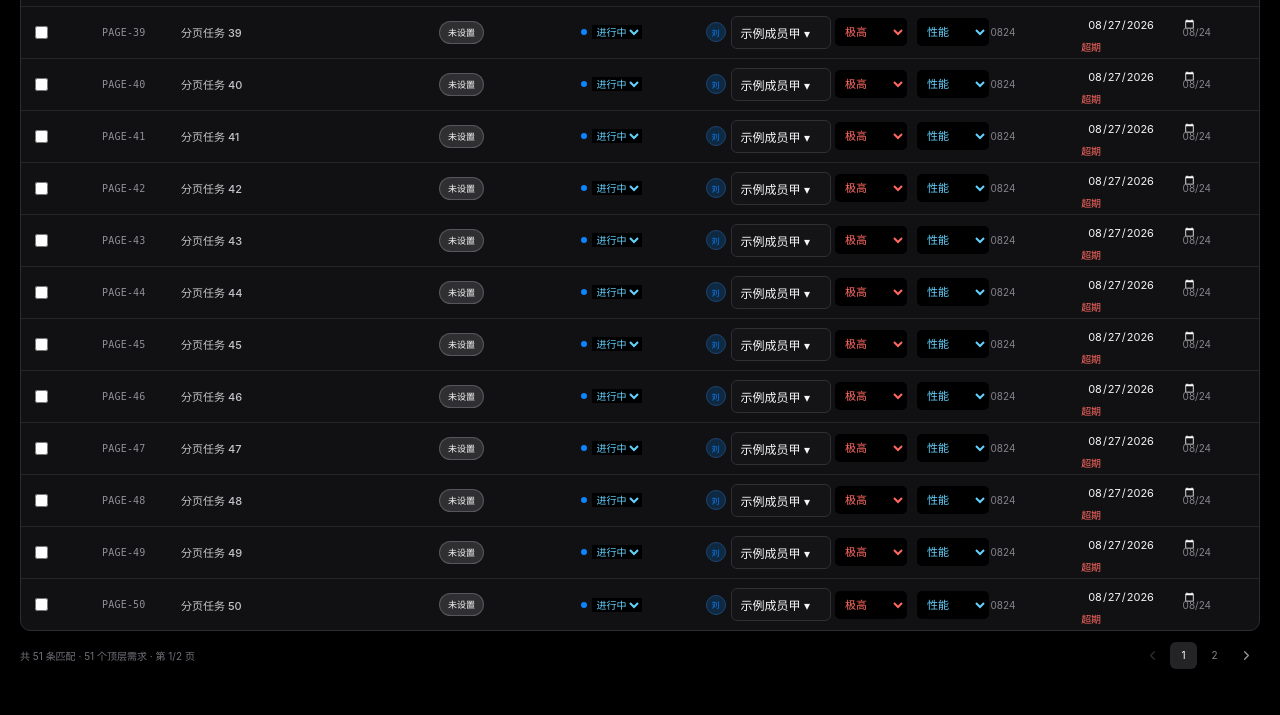
每页显示50个顶层需求，剩余需求放在第二页
(page scrolled)
Expected: the text "共 51 条匹配 · 51 个顶层需求 · 第 1/2 页" is shown, [20,648,195,663]
Click the button "2" at (1214, 655), box [1201,642,1228,669]
(page scrolled)
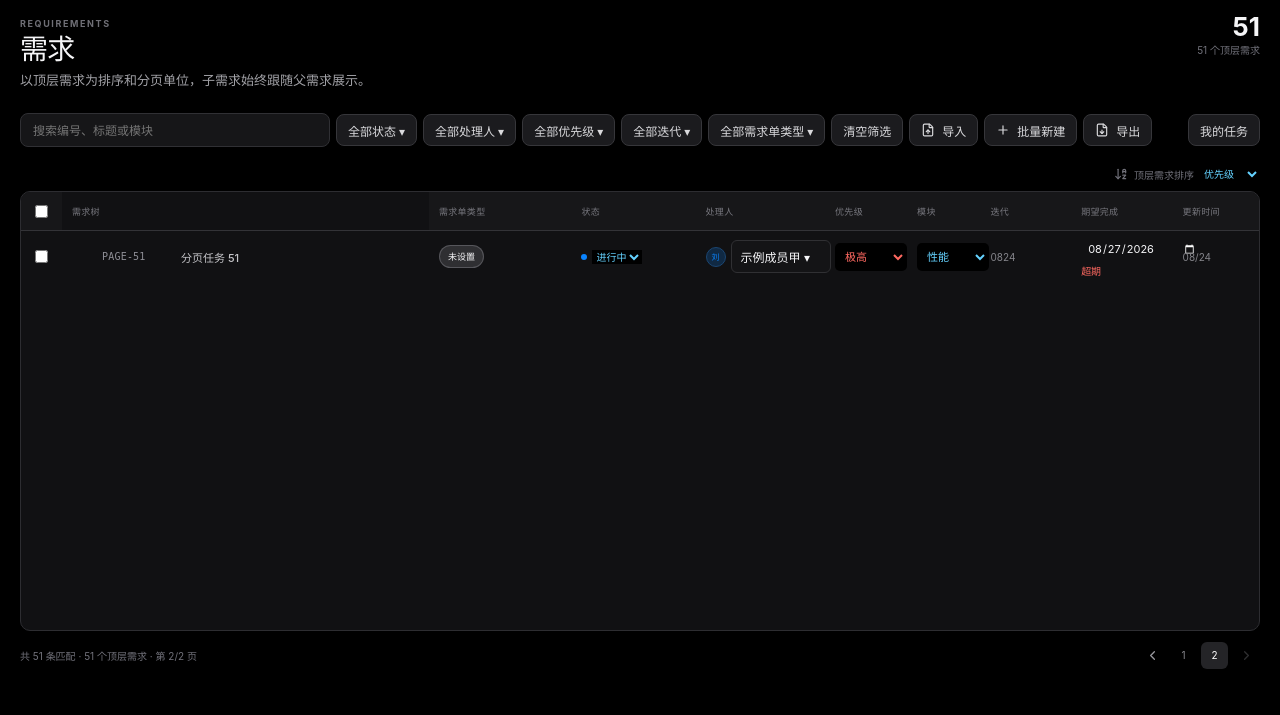
Expected: the text "分页任务 51" is shown, [181,251,239,265]
